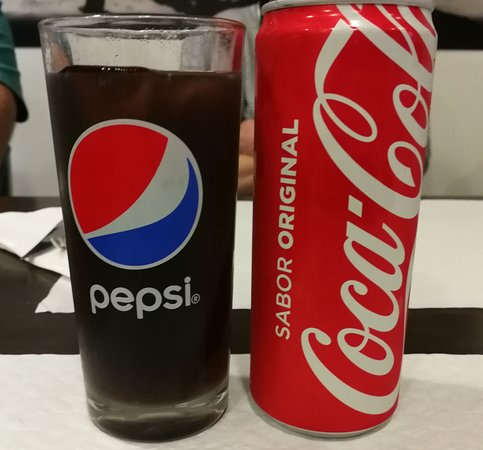pepsi: (63, 115, 202, 270), (66, 118, 202, 270)
